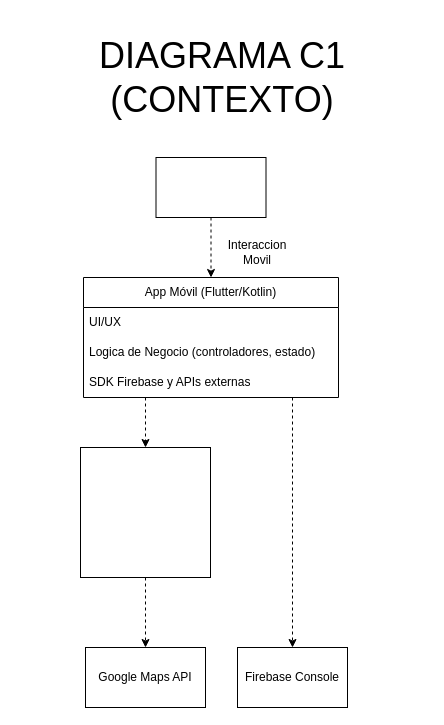
This 444x725 diagram has some shape labels left out. Each missing label, with the centre of its shape:
"Firebase (Auth, Firestore, Storage, Messaging)" goes at point (145, 512).
"USUARIO" goes at point (210, 187).
